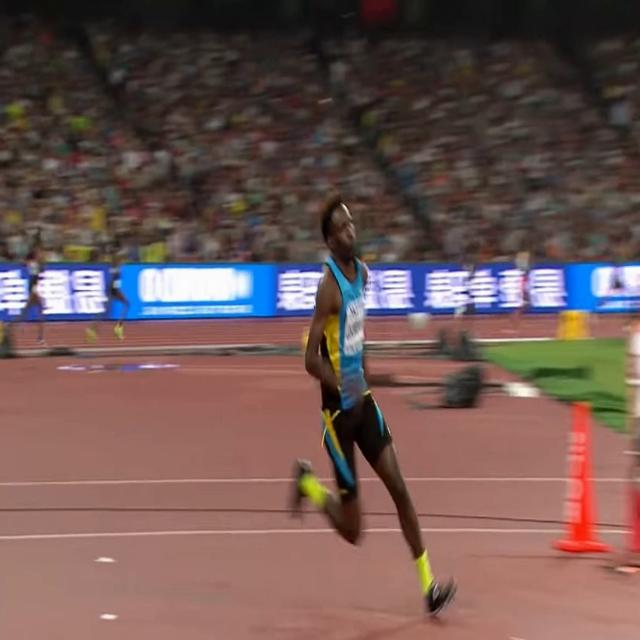run: (288, 191, 457, 619)
